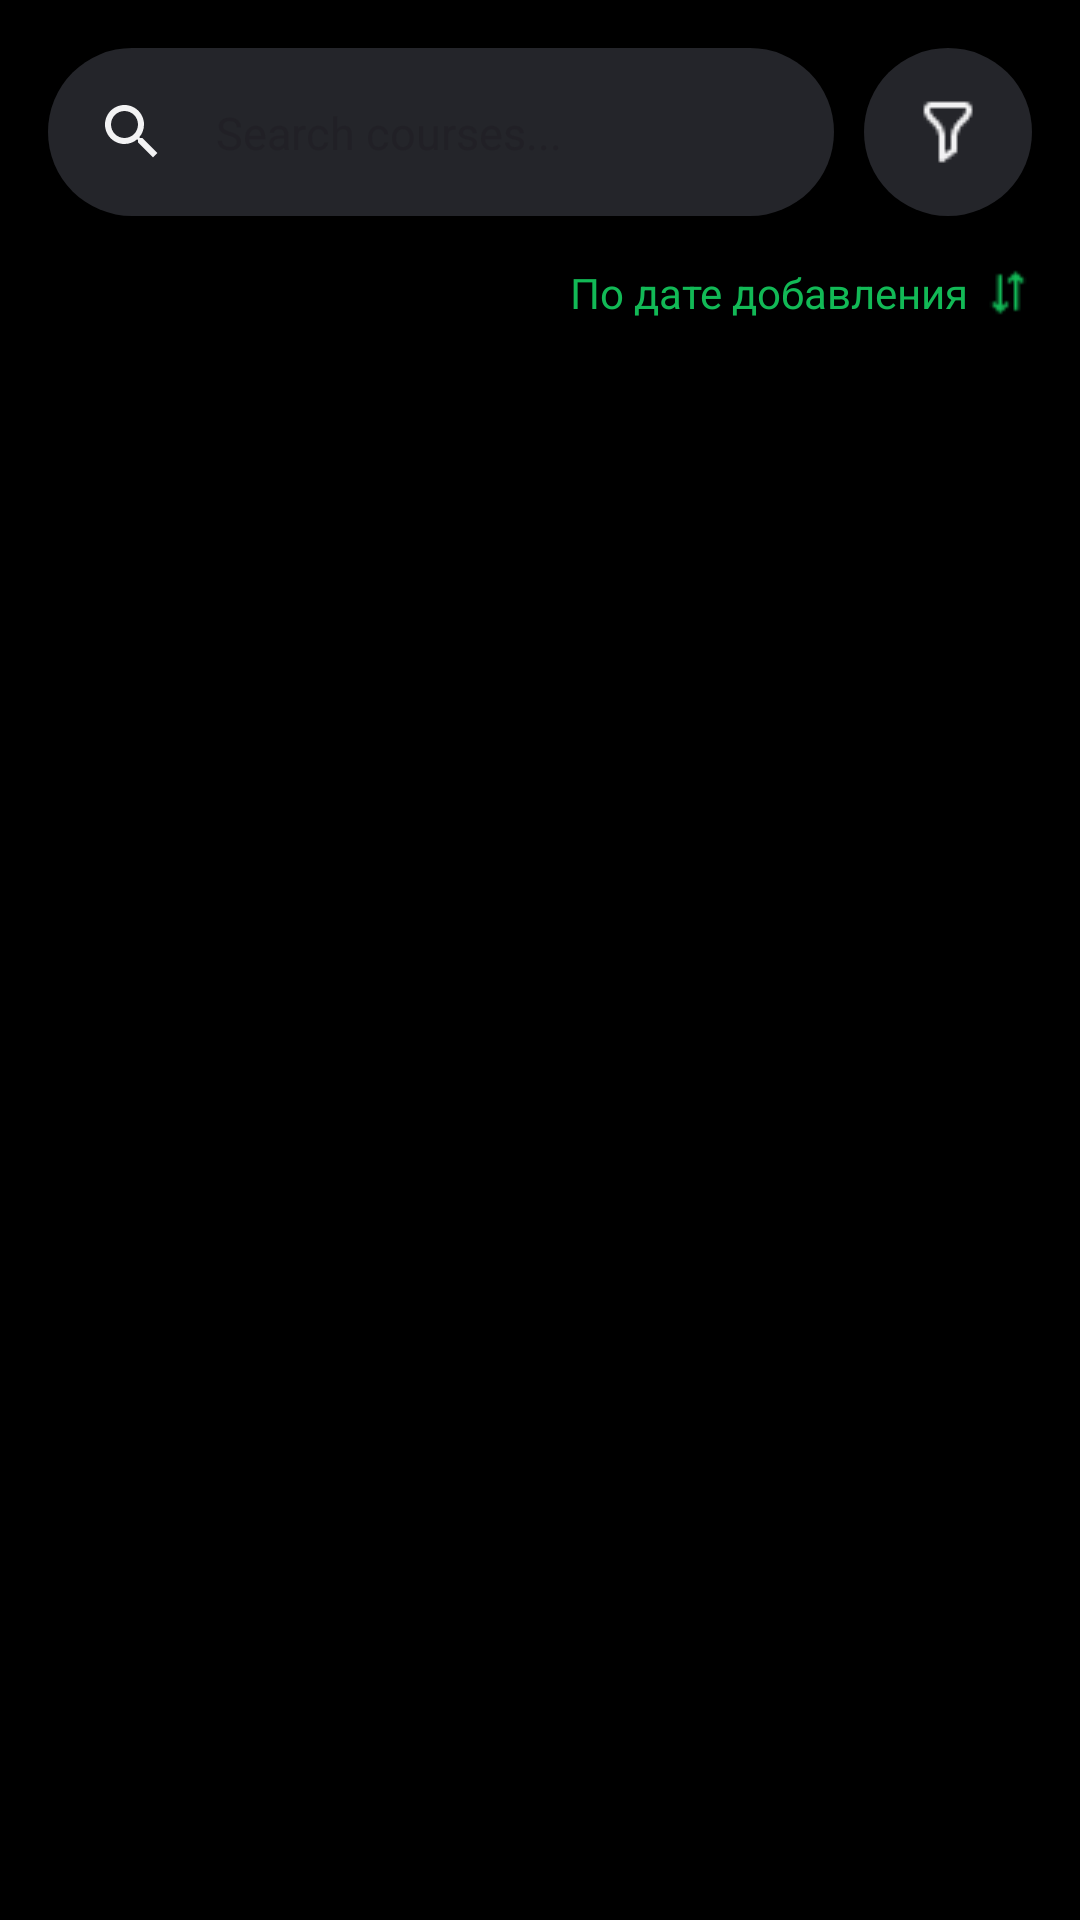

Where to tap for icons on this 1080px x 1920px app screen, as [x,y]:
filter: [948,132]
sort: [1008,292]
